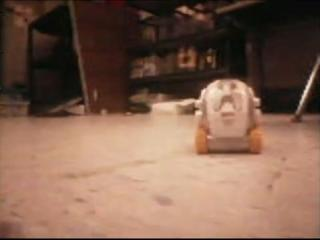cozmo: (193, 77, 263, 155)
